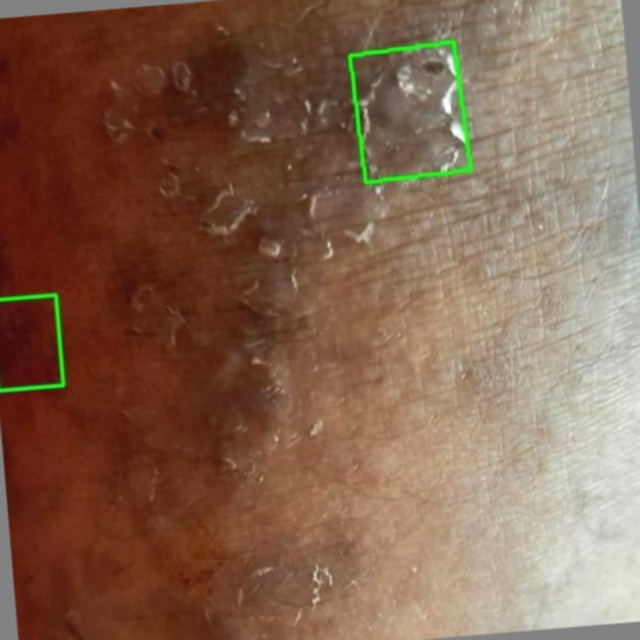Tinea Corporis: (350, 42, 471, 183), (0, 294, 63, 390)
